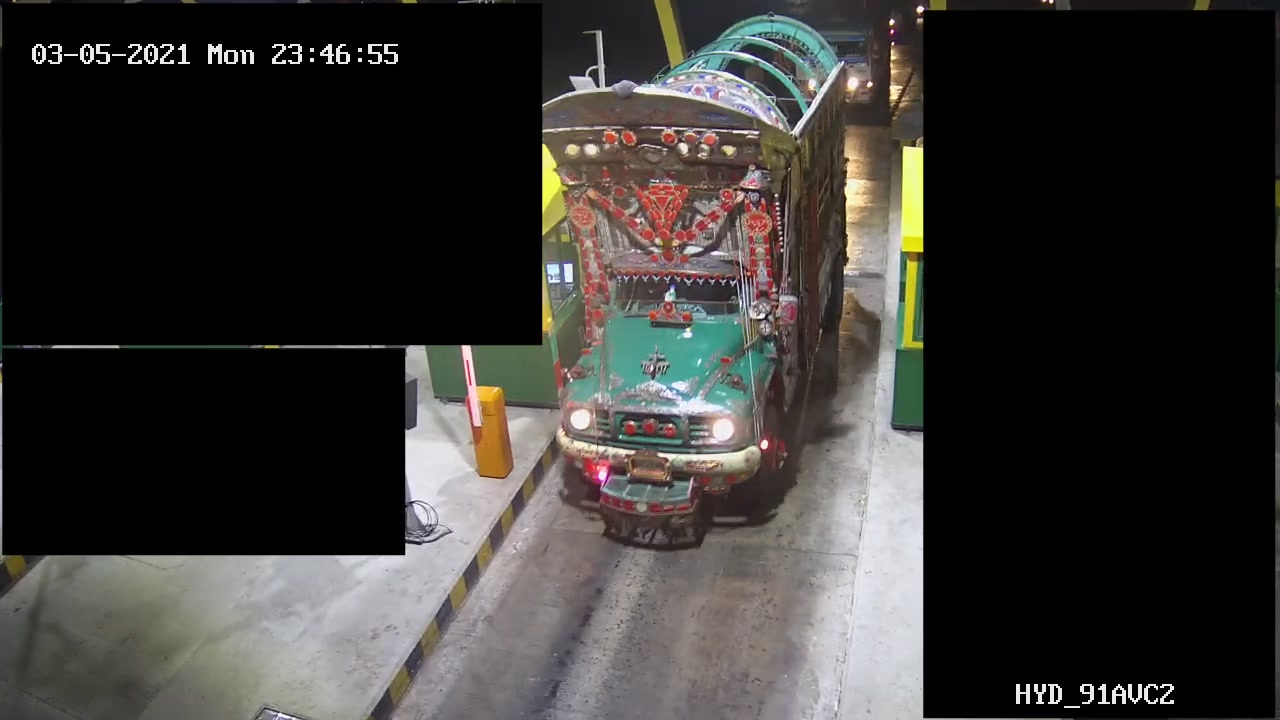F5: (537, 19, 853, 561)
